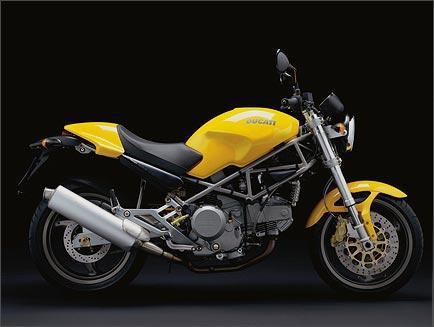motorcycle: (2, 33, 434, 304)
